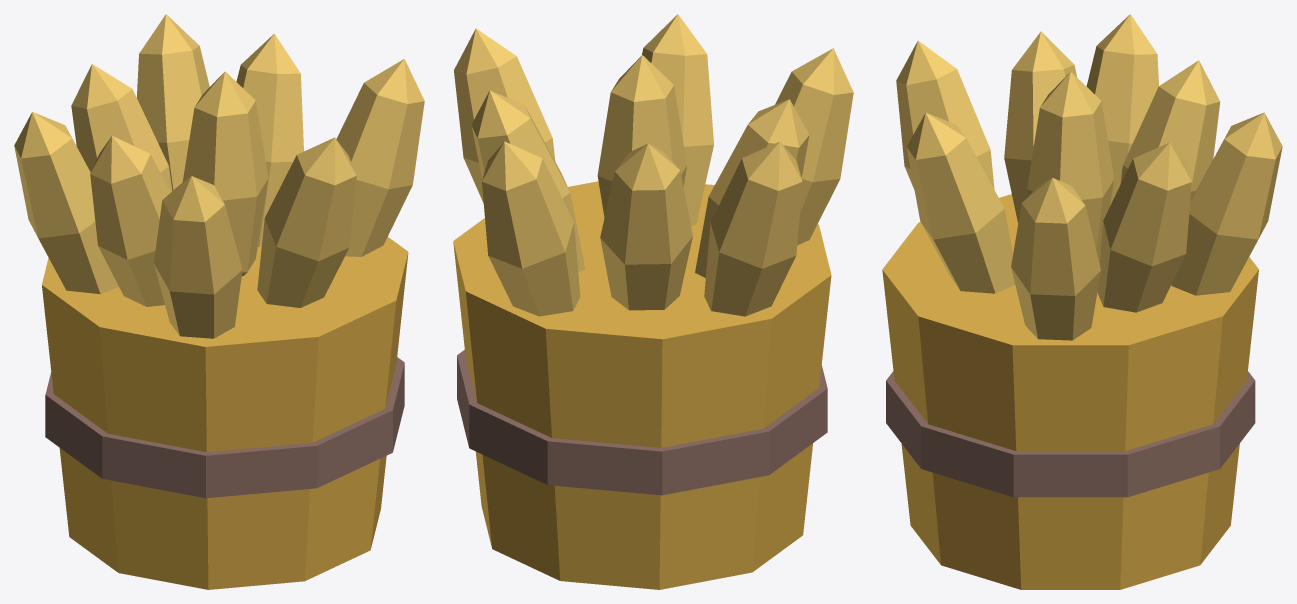
The model's file is Bugday_Model.fbx.
The picture shows the model from 3 angles, left to right: view 1: azimuth 30°, elevation 25°; view 2: azimuth 150°, elevation 25°; view 3: azimuth 270°, elevation 25°; orthographic projection. The views are drawn at different scales.
Visible parts, largest first — view 1: Bugday_Model; view 2: Bugday_Model; view 3: Bugday_Model.
Part boxes in pixels (x1=…): Bugday_Model: x1=14, y1=14, x2=424, y2=589; Bugday_Model: x1=453, y1=14, x2=853, y2=589; Bugday_Model: x1=882, y1=14, x2=1282, y2=589.
Bounding box in the file's own units: 22.44 × 26.6 × 21.25.
